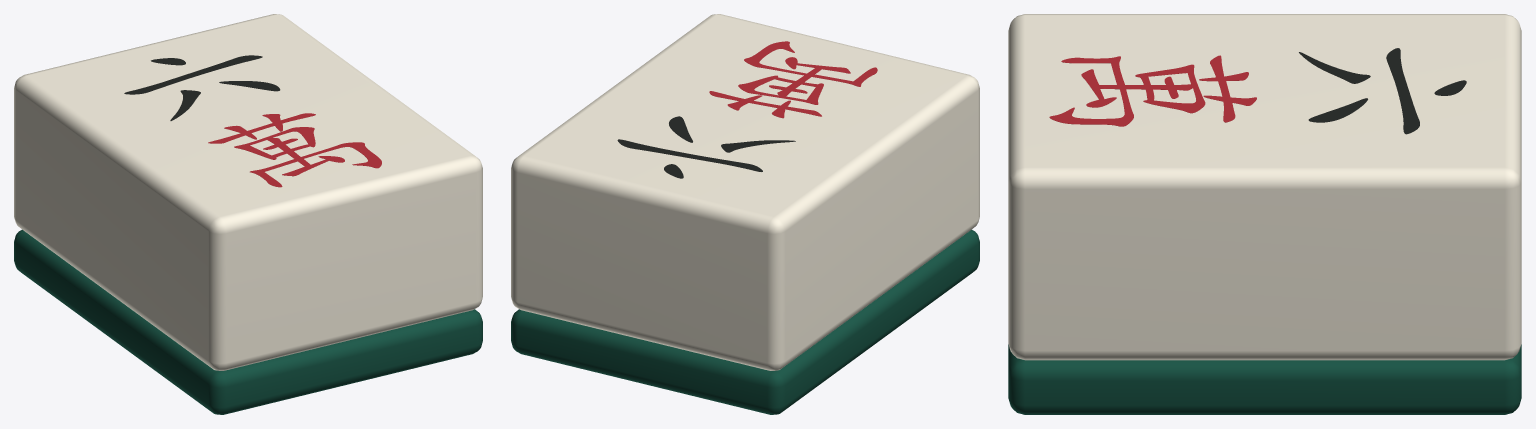
The model's file is wan-06.glb.
3 views of the same model, side by side, from view 1: azimuth 30°, elevation 25°; view 2: azimuth 150°, elevation 25°; view 3: azimuth 270°, elevation 25° (orthographic). The views are drawn at different scales.
Visible parts, largest first — view 1: wan-06_ivory, wan-06_back, wan-06_face_inlays; view 2: wan-06_ivory, wan-06_back, wan-06_face_inlays; view 3: wan-06_ivory, wan-06_back, wan-06_face_inlays.
Boxes of the visible parts, bbox=[...] form: wan-06_ivory: bbox=[14, 14, 482, 370]; wan-06_back: bbox=[14, 229, 482, 414]; wan-06_face_inlays: bbox=[124, 55, 381, 187]; wan-06_ivory: bbox=[511, 14, 979, 370]; wan-06_back: bbox=[511, 229, 979, 414]; wan-06_face_inlays: bbox=[617, 41, 877, 178]; wan-06_ivory: bbox=[1008, 14, 1521, 360]; wan-06_back: bbox=[1008, 344, 1521, 414]; wan-06_face_inlays: bbox=[1049, 48, 1466, 134].
Size of the model in its own units: 0.026 by 0.018 by 0.034.
